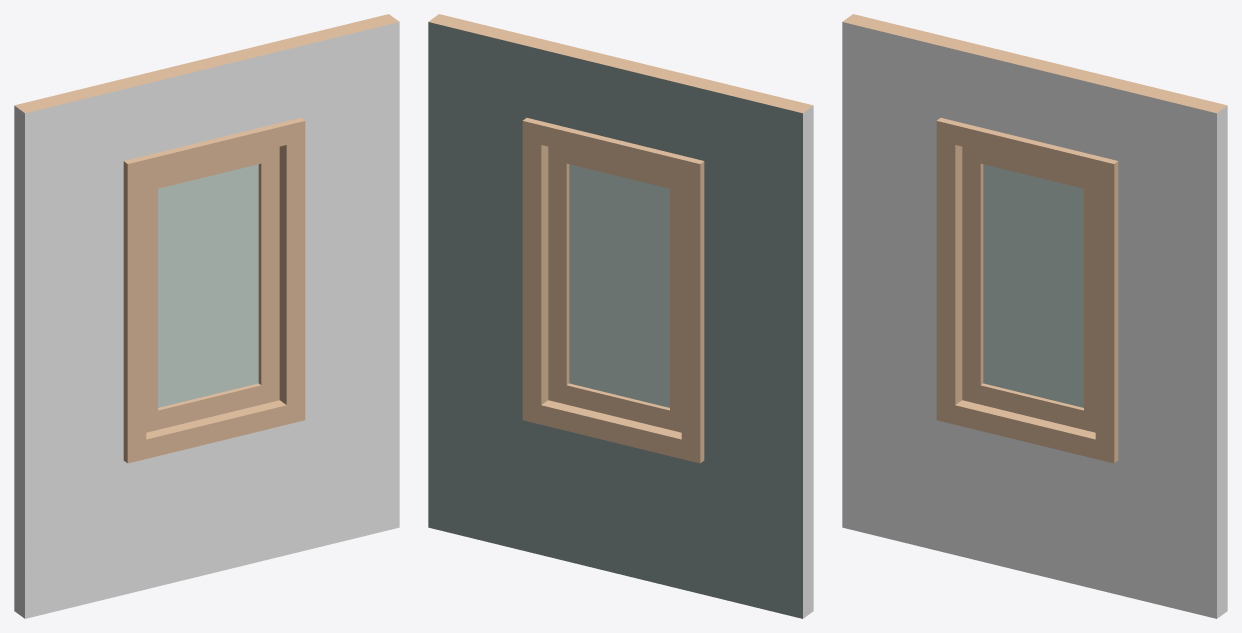
Rendered from wallWindow.glb.
3 views of the same model, side by side, from view 1: azimuth 30°, elevation 25°; view 2: azimuth 150°, elevation 25°; view 3: azimuth 330°, elevation 25° (orthographic).
Parts seen in each view (by area): view 1: wallWindow; view 2: wallWindow; view 3: wallWindow.
Part boxes in pixels (box(x1,y1,x2,y2)): wallWindow: box(14, 14, 399, 618); wallWindow: box(428, 14, 813, 618); wallWindow: box(842, 14, 1227, 618).
Size of the model in its own units: 1 by 1.29 by 0.0891.
